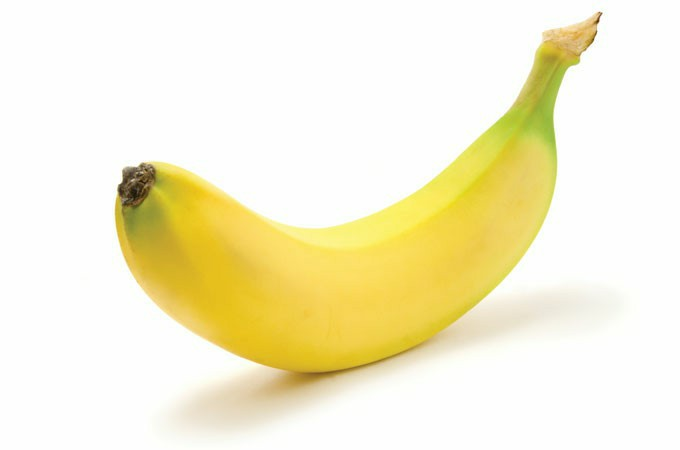fresh_banana: (116, 37, 591, 369)
